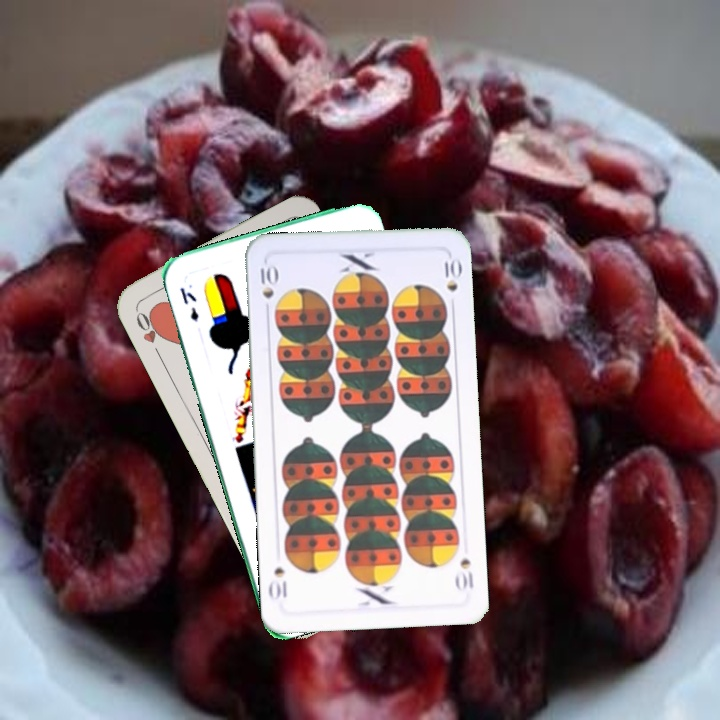EK: (176, 283, 202, 324)
HO: (131, 304, 168, 359)
S10: (256, 259, 278, 318), (452, 554, 476, 592)
